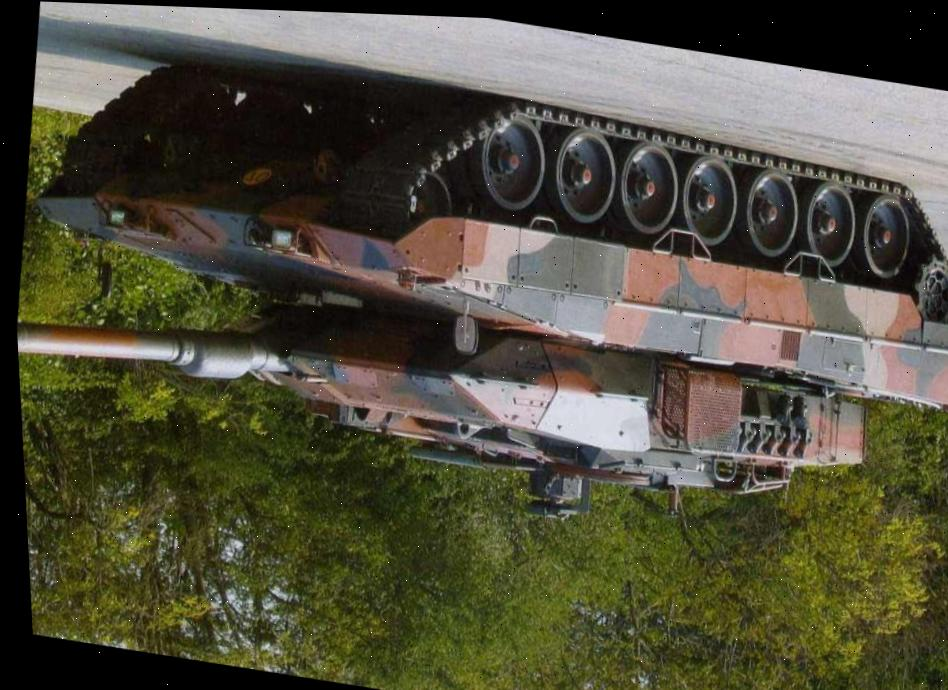tank: (0, 8, 948, 588)
